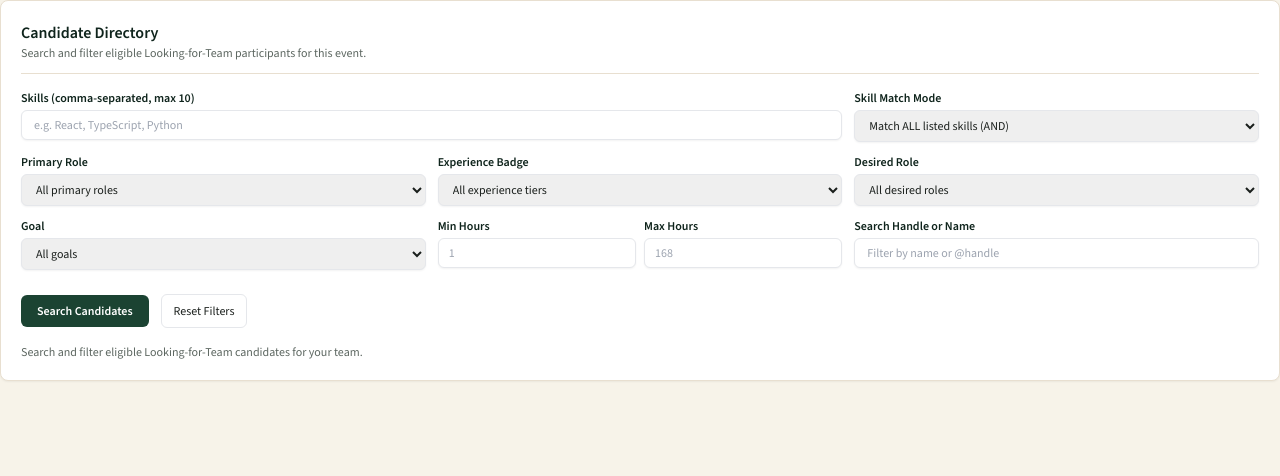
Test: CandidateDirectoryPanel (US-014-T4 / #139) › renders contextual empty state when search returns zero matches
This screenshot has width=1280, height=476.
Click the button with test id "directory-search-submit" at (85, 311), box [21,295,149,327]
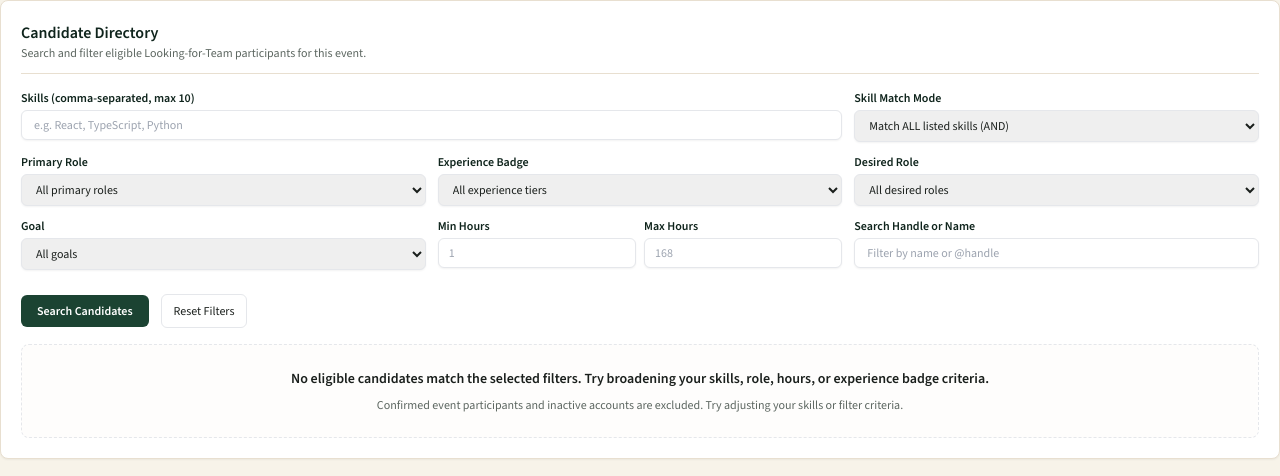
Expected: the message with test id "directory-empty-state" is shown, [21,344,1259,438]
Expected: the message with test id "directory-empty-state" shows "No eligible candidates match", [291,369,989,388]
